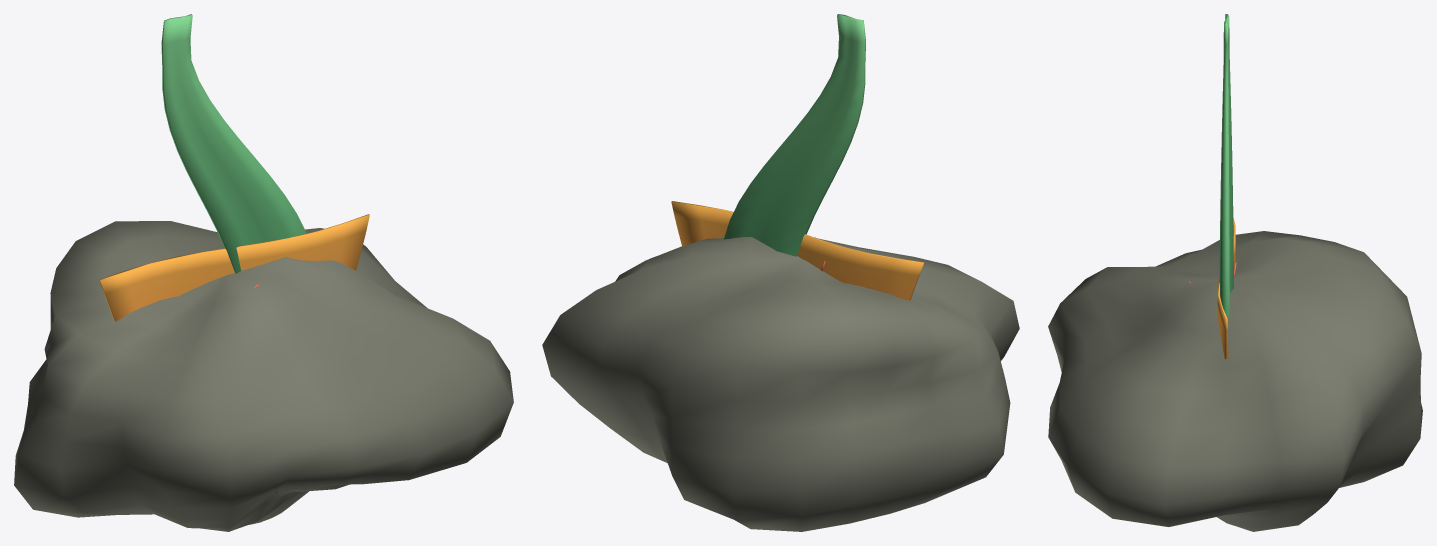
Rendered from arrecife.glb.
3 renders of one model, left to right at view 1: azimuth 30°, elevation 25°; view 2: azimuth 150°, elevation 25°; view 3: azimuth 270°, elevation 25°, orthographic. The views are drawn at different scales.
Parts seen in each view (by area): view 1: Roca B, Alga, Coral copa; view 2: Roca B, Alga, Coral copa; view 3: Roca B, Alga, Coral copa.
Part boxes in pixels (bbox=[...]): Roca B: bbox=[14, 221, 513, 531]; Alga: bbox=[161, 14, 306, 273]; Coral copa: bbox=[99, 214, 369, 321]; Roca B: bbox=[542, 237, 1019, 531]; Alga: bbox=[723, 14, 865, 256]; Coral copa: bbox=[671, 201, 924, 300]; Roca B: bbox=[1048, 231, 1422, 531]; Alga: bbox=[1219, 14, 1233, 316]; Coral copa: bbox=[1217, 217, 1235, 358].
Bounding box in the file's own units: 4.96 × 5.24 × 3.93.
